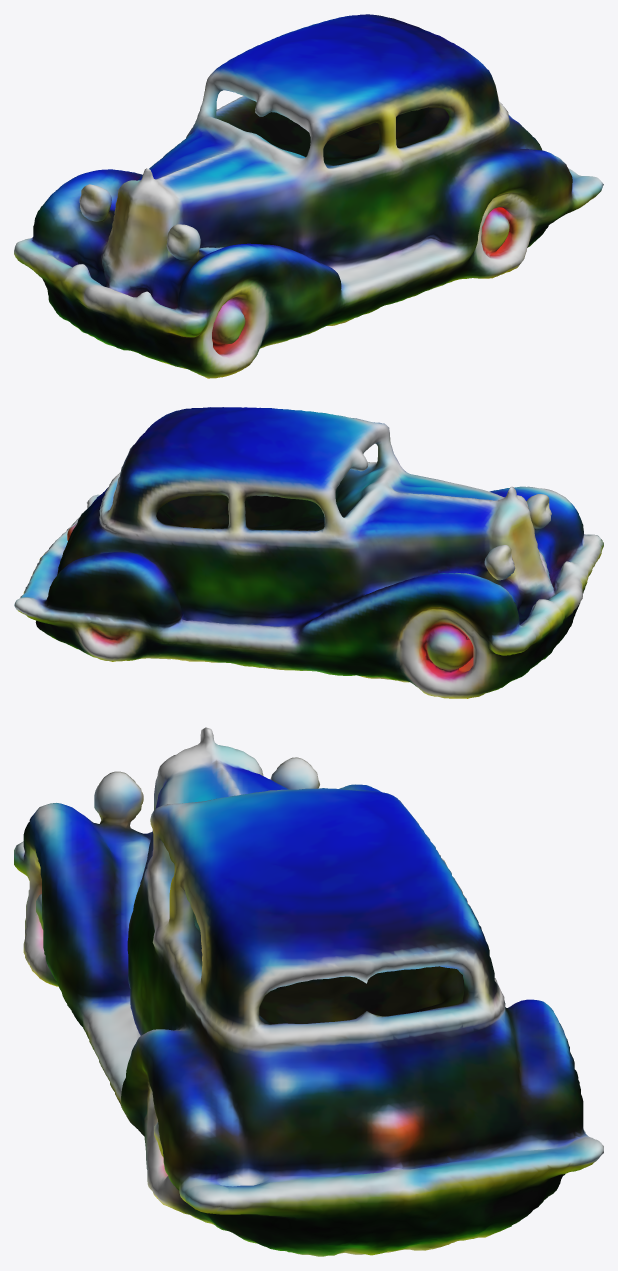
The model's file is packardcar_1step.glb.
3 views of the same model, one above another, from view 1: azimuth 30°, elevation 25°; view 2: azimuth 150°, elevation 25°; view 3: azimuth 270°, elevation 25° (orthographic). The views are drawn at different scales.
Visible parts, largest first — view 1: world; view 2: world; view 3: world.
Boxes of the visible parts, x1,y1,x2,y2 form: world: (14,14,603,378); world: (14,407,603,698); world: (14,727,603,1256).
Size of the model in its own units: 1.35 by 0.5508 by 0.9473.
